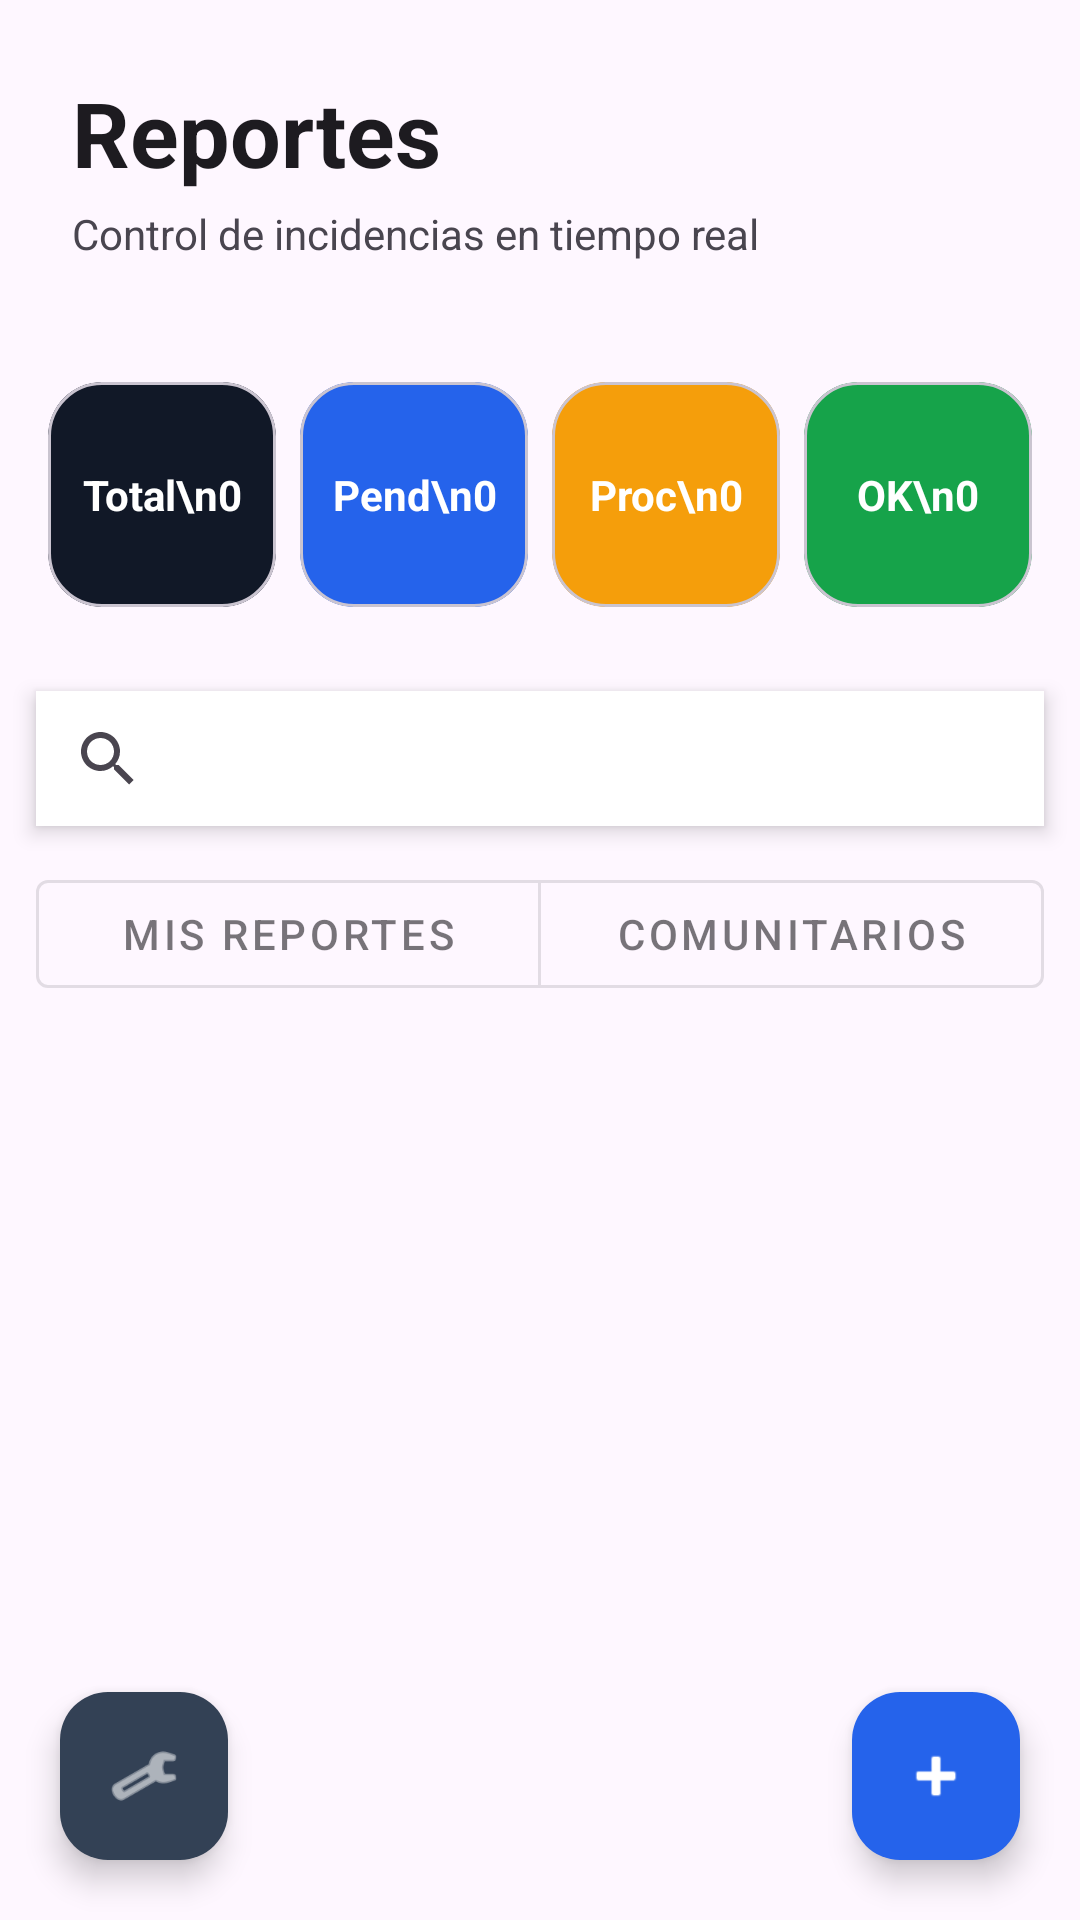

Locate icon controls on the screen. Image size 1080px x 1920px, boxes as (left=x1, top=y1, right=x2, bottom=y2).
add: (left=852, top=1692, right=1020, bottom=1860)
manage: (left=60, top=1692, right=228, bottom=1860)
